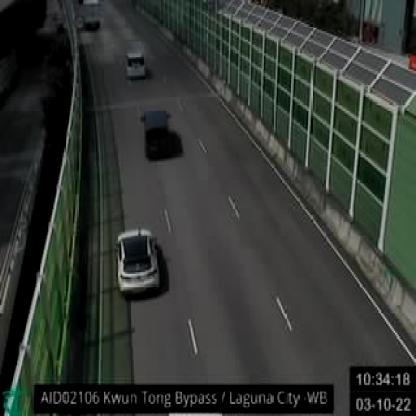Car: (113, 225, 161, 295), (142, 109, 172, 154), (125, 47, 143, 80)
